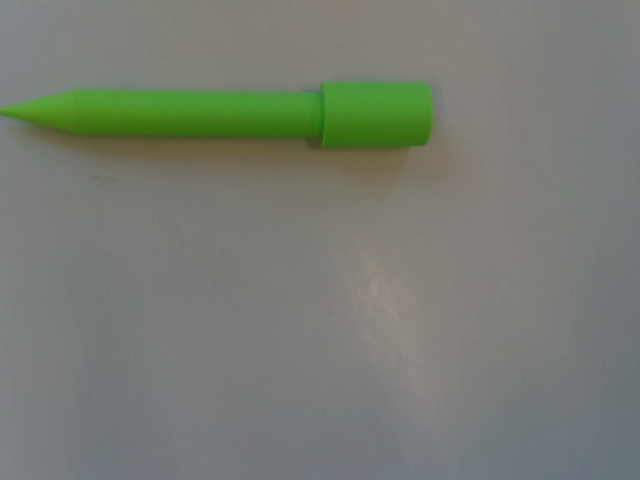Probe: (1, 73, 438, 155)
